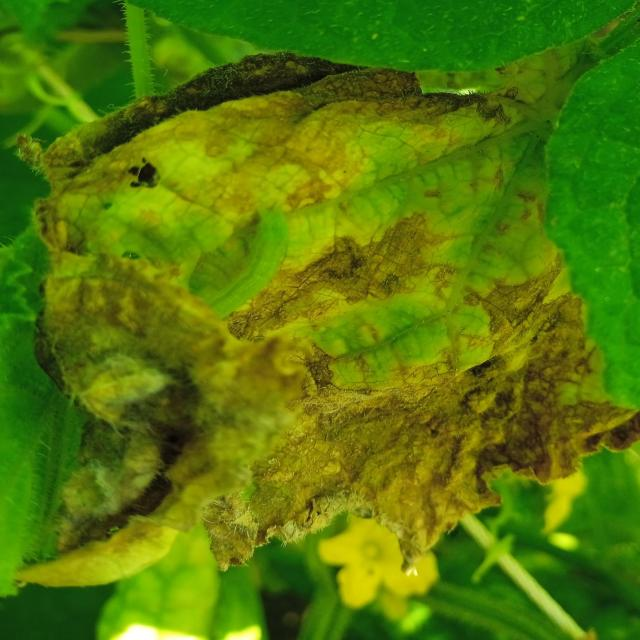cucumber_gummy: (8, 33, 640, 571)
